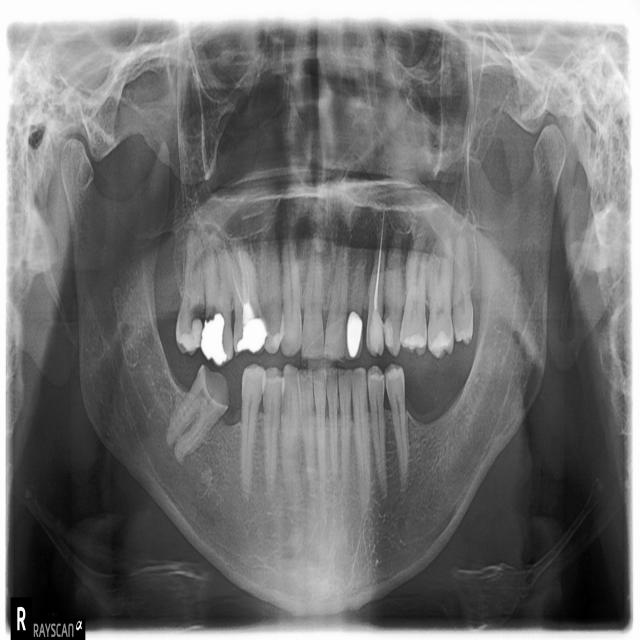mandibula: (62, 122, 570, 619)
